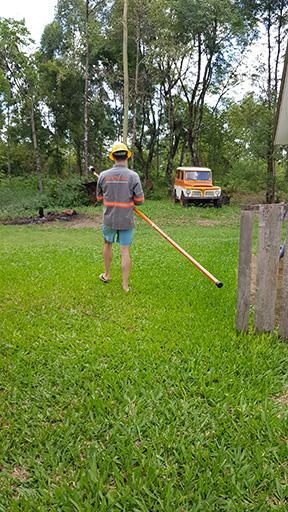Capacete: (107, 139, 132, 164)
Vara_Manobra: (92, 171, 220, 285)
